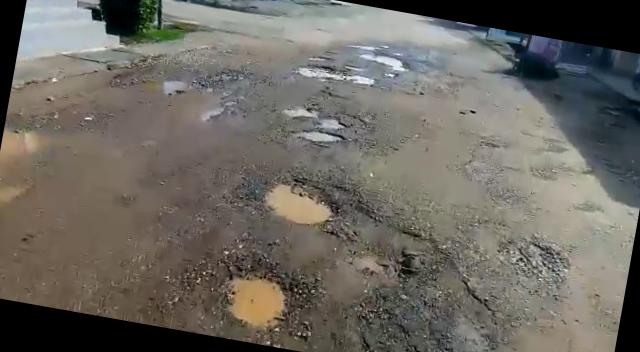pothole: (217, 269, 290, 333), (258, 174, 338, 227), (287, 122, 345, 149), (289, 59, 349, 85), (288, 103, 346, 128), (360, 47, 416, 72)
